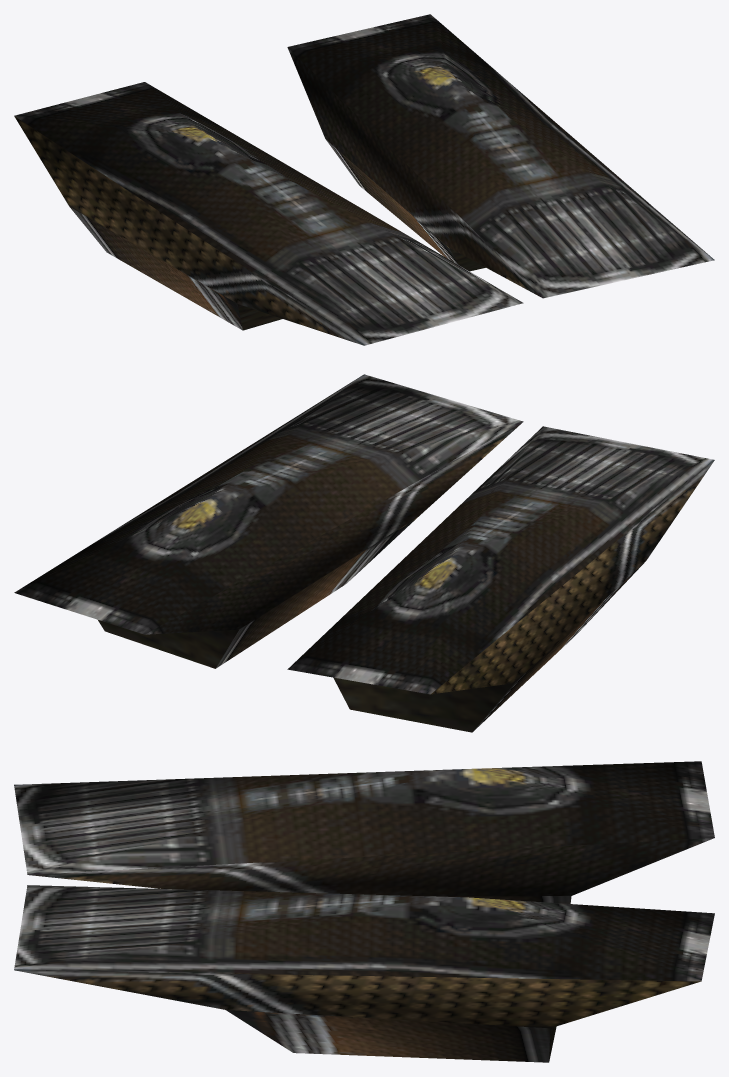
The model's file is ArmPads7__CMG.glb.
3 renders of one model, top to bottom at view 1: azimuth 30°, elevation 25°; view 2: azimuth 150°, elevation 25°; view 3: azimuth 270°, elevation 25°, orthographic. The views are drawn at different scales.
Visible parts, largest first — view 1: ArmPads7; view 2: ArmPads7; view 3: ArmPads7.
Boxes of the visible parts, box(x1,y1,x2,y2) form: ArmPads7: box(14, 14, 714, 345); ArmPads7: box(14, 374, 714, 732); ArmPads7: box(14, 761, 714, 1062).
Size of the model in its own units: 15.43 by 4.33 by 19.41.
1 material, 1 textured.
